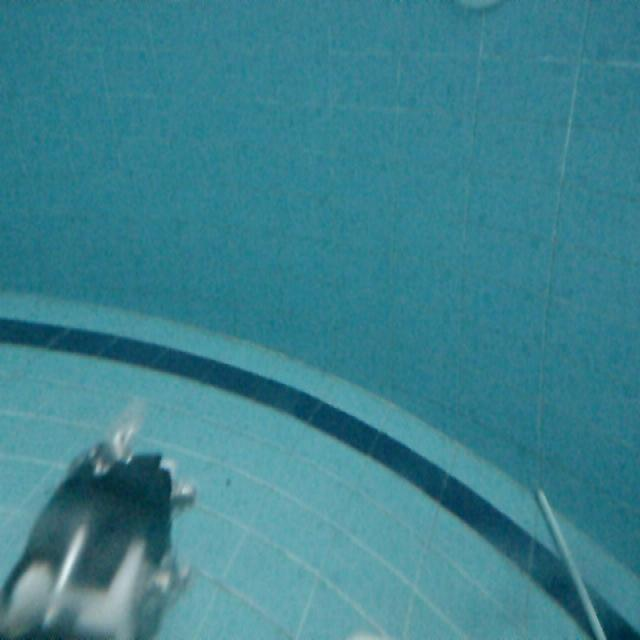Cube: (534, 490, 610, 640)
